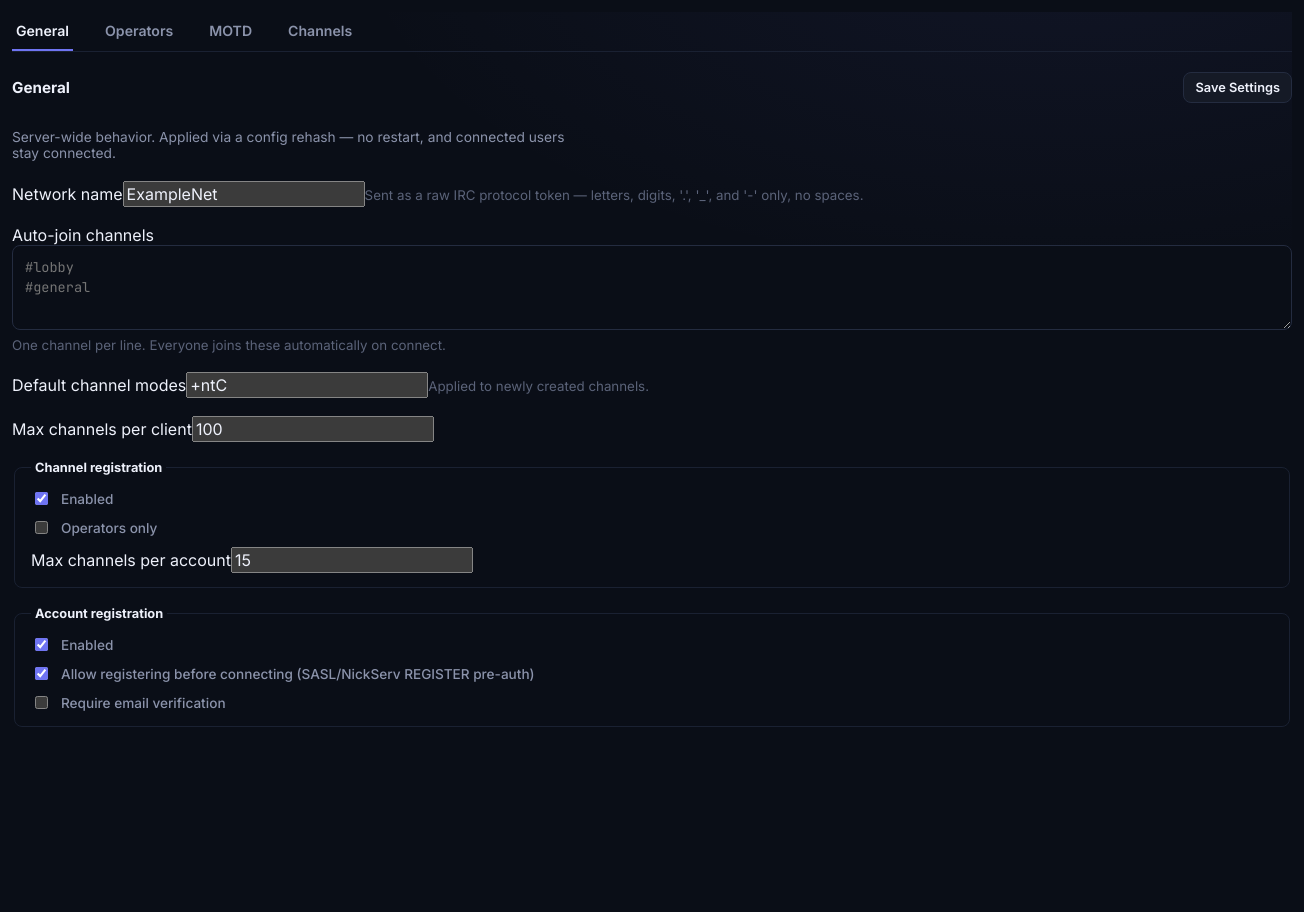
IrcSettingsPanel › removing an operator sends a DELETE for that username
Step 1. Click the tab "Operators" → (139, 32), box [101,12,177,51]
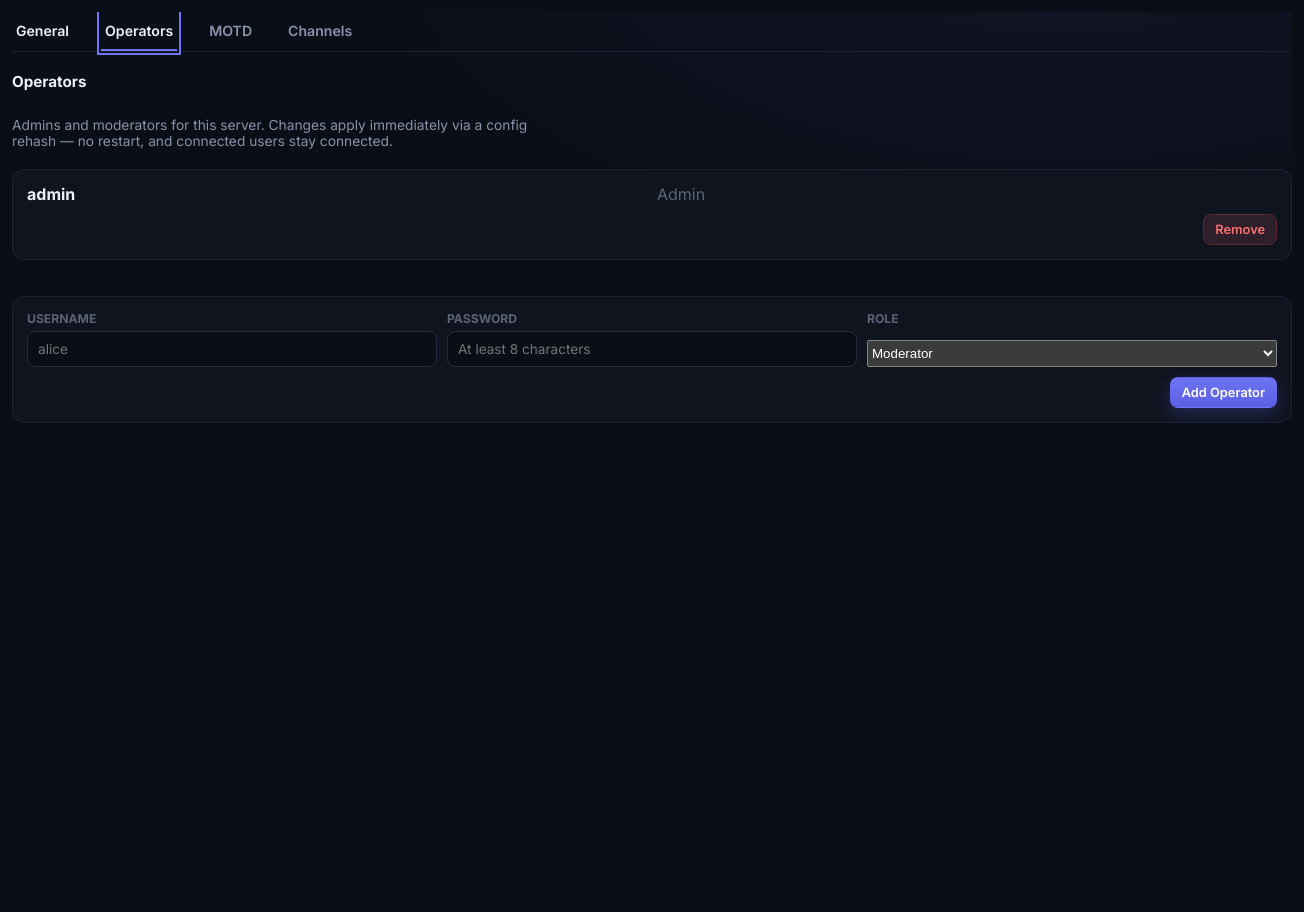
expect the text "admin" is shown: met, box [27,184,75,204]
Step 2. Click the button "Remove" → (1240, 230), box [1203,214,1277,245]
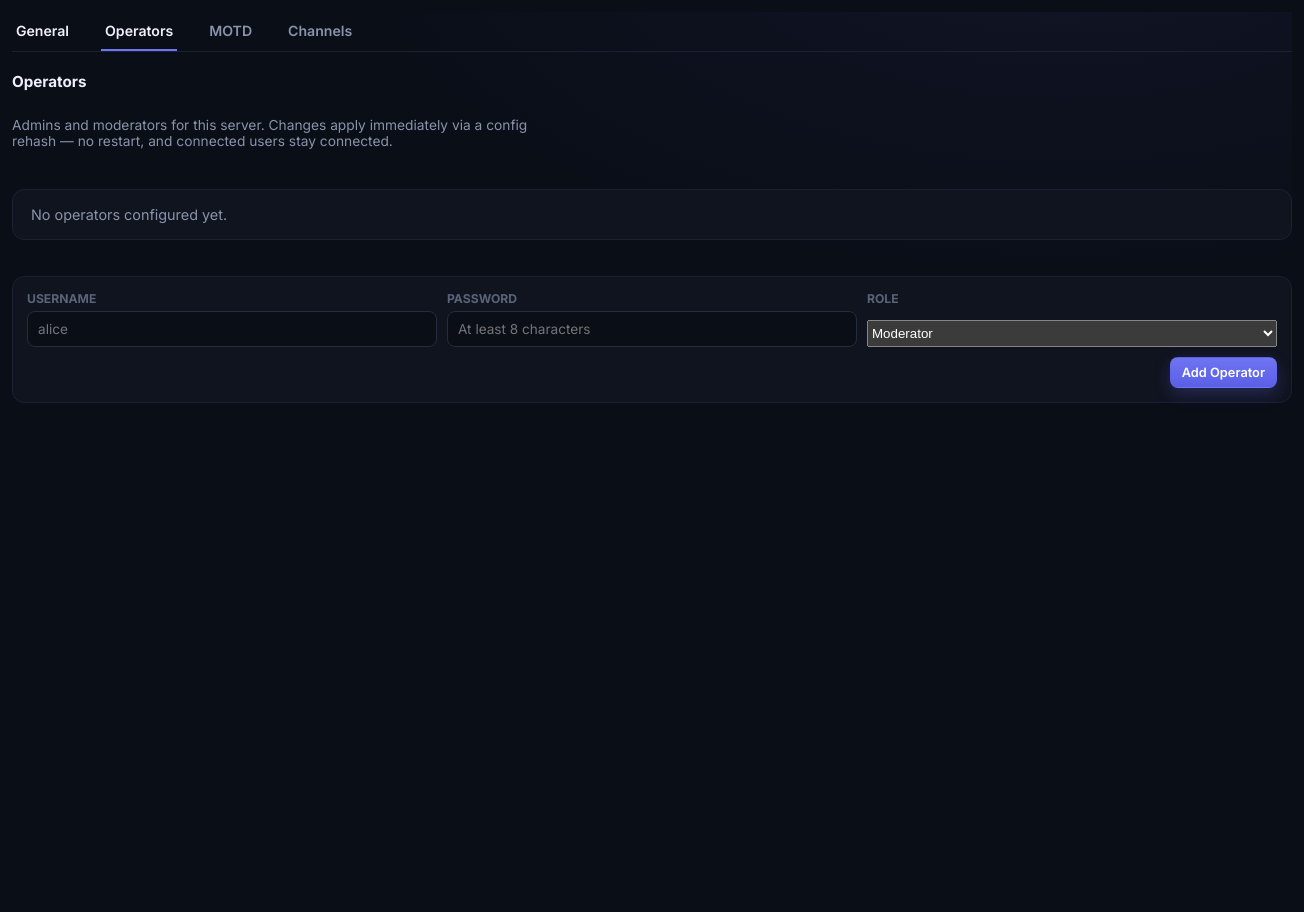
expect the text "No operators configured yet." is shown: met, box [12,189,1292,240]
